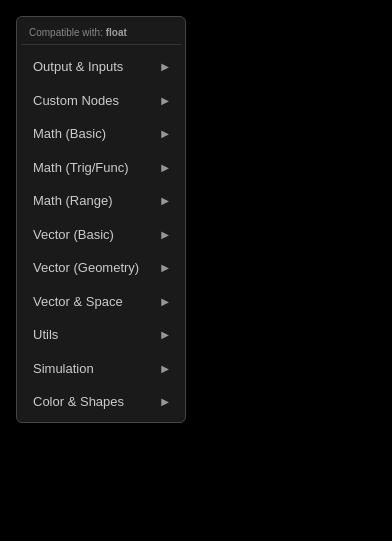
Scenario: ContextMenu - direction-aware filtering › dragging FROM an output (filterDirection="source", float) › shows math nodes (float inputs)
Hover over the text "Math (Basic)" at (70, 134), box [33,124,106,144]
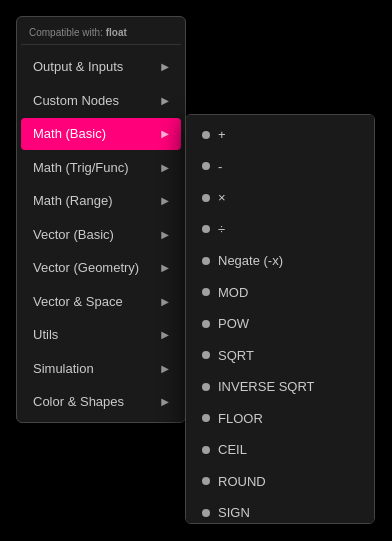
Result: the text "+" is shown at [202,127,226,142]
